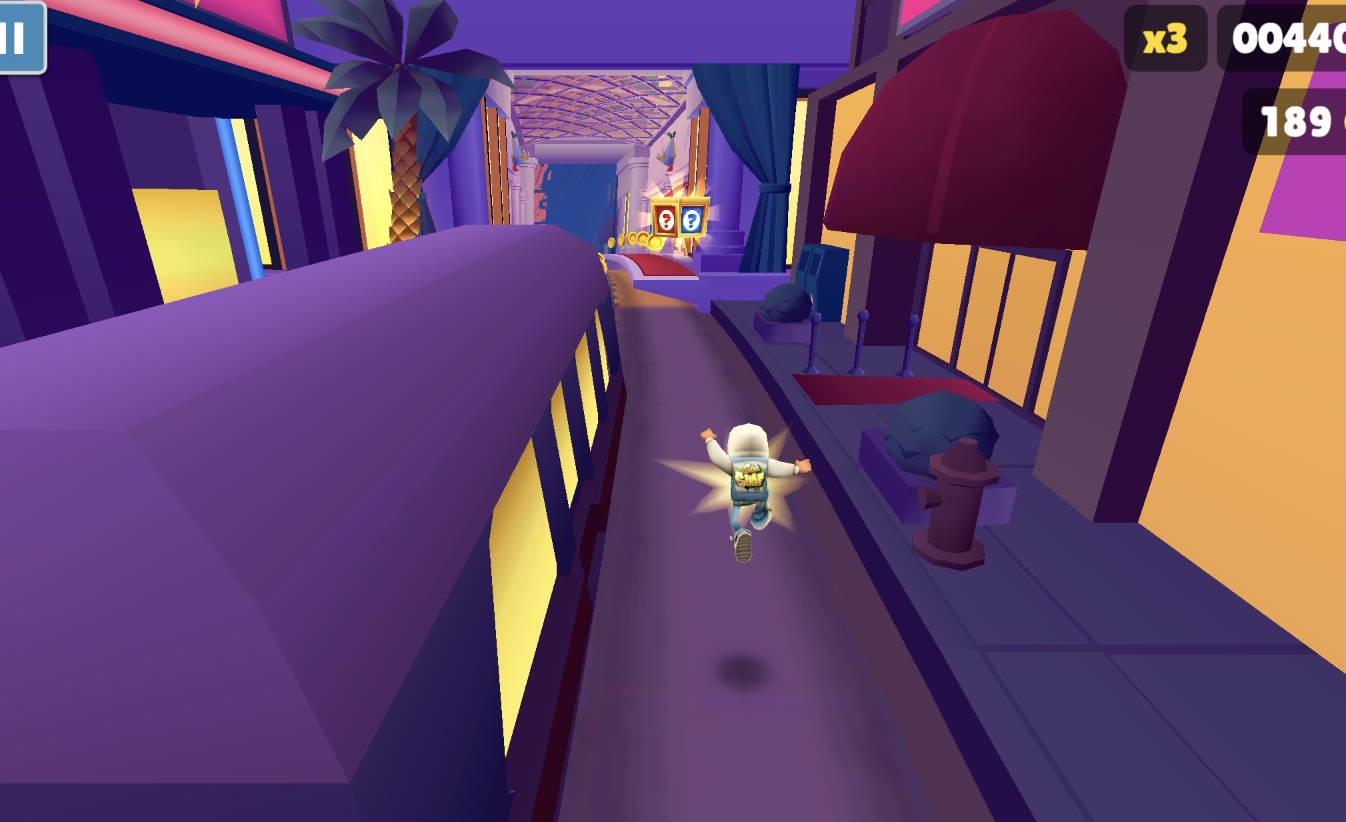train: (0, 224, 624, 822)
